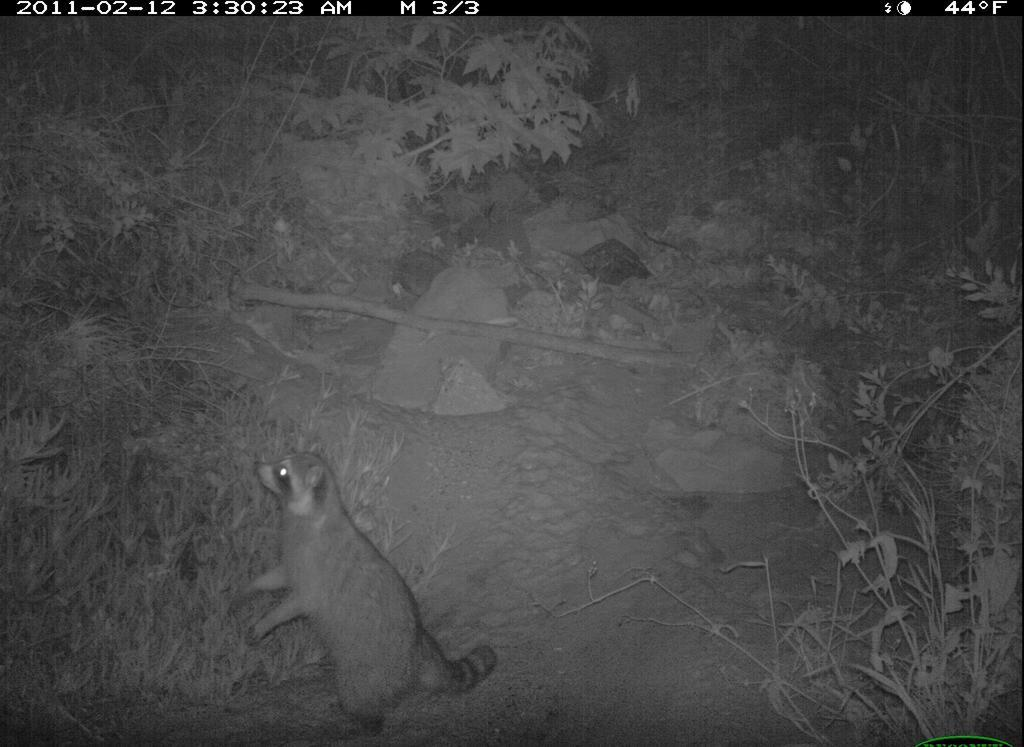raccoon: (226, 438, 515, 730)
